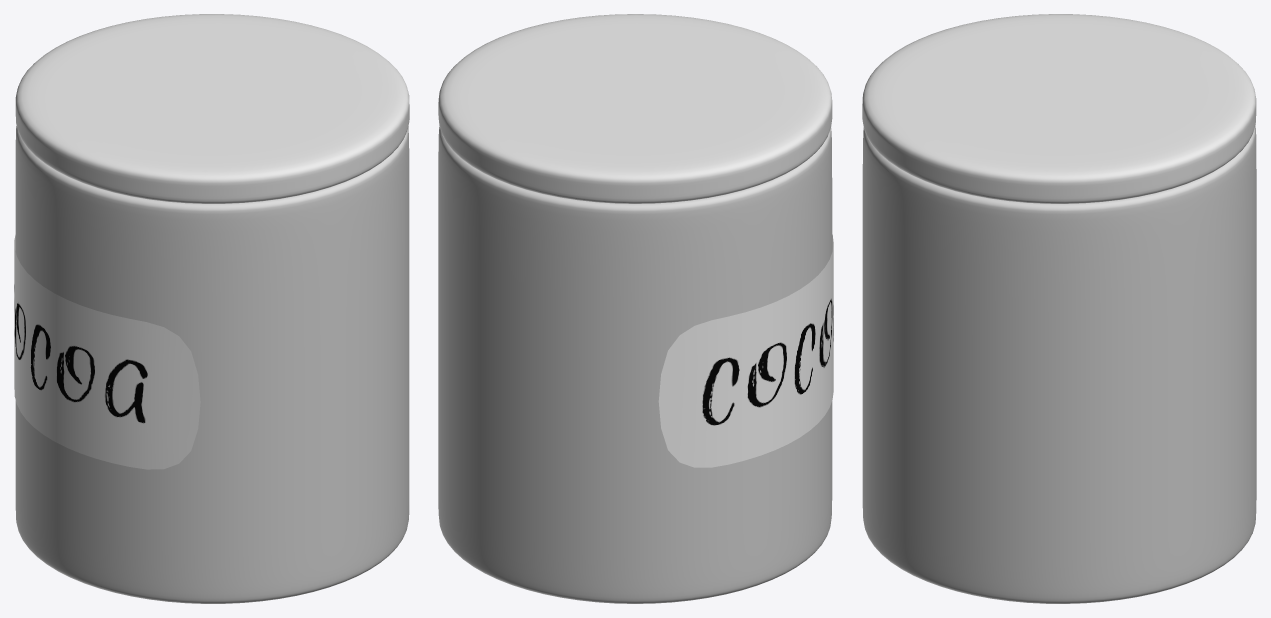
Rendered from cocoa-jar.fbx.
3 views of the same model, side by side, from view 1: azimuth 30°, elevation 25°; view 2: azimuth 150°, elevation 25°; view 3: azimuth 270°, elevation 25° (orthographic).
Visible parts, largest first — view 1: jar.003, jar-cap.003, label.003; view 2: jar.003, jar-cap.003, label.003; view 3: jar.003, jar-cap.003.
Part boxes in pixels (box(x1,y1,x2,y2)): jar.003: box(15, 126, 409, 603); jar-cap.003: box(15, 14, 409, 203); label.003: box(14, 235, 200, 469); jar.003: box(438, 127, 832, 603); jar-cap.003: box(438, 14, 832, 203); label.003: box(658, 234, 833, 467); jar.003: box(862, 126, 1256, 603); jar-cap.003: box(862, 14, 1256, 203).
Bounding box in the file's own units: 196 × 235 × 195.
